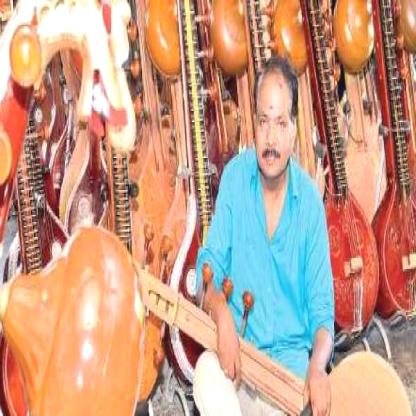Veena: (340, 1, 416, 344), (375, 1, 416, 327)
